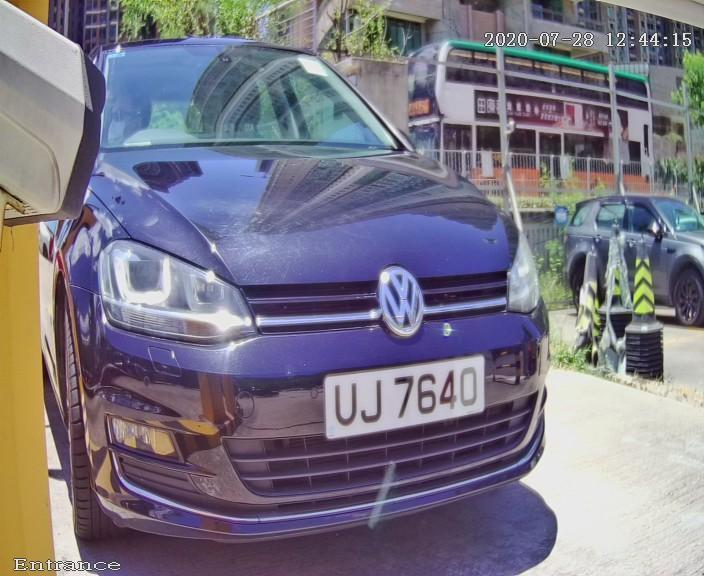privatecar: (19, 11, 610, 569)
